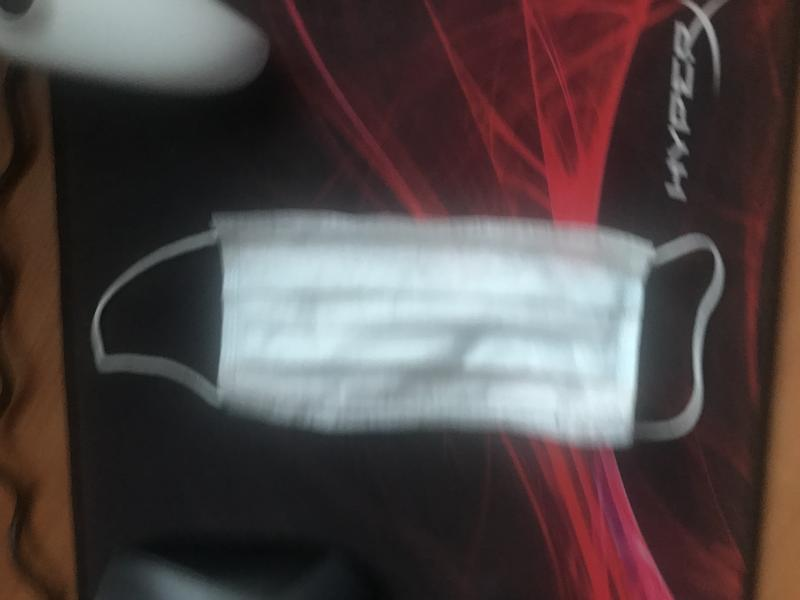medical_mask: (91, 210, 720, 440)
